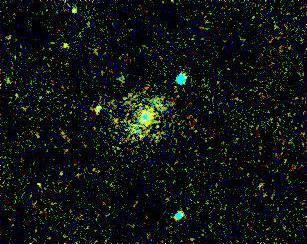star: (53, 31, 83, 61)
